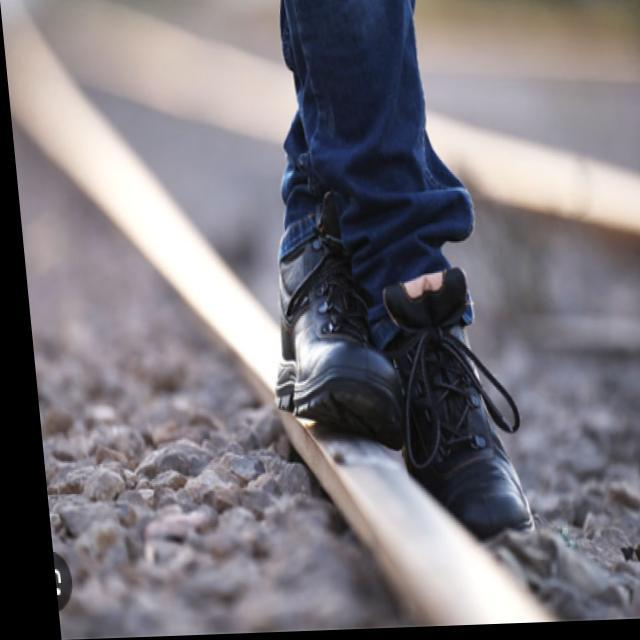shoes: (252, 156, 543, 557)
